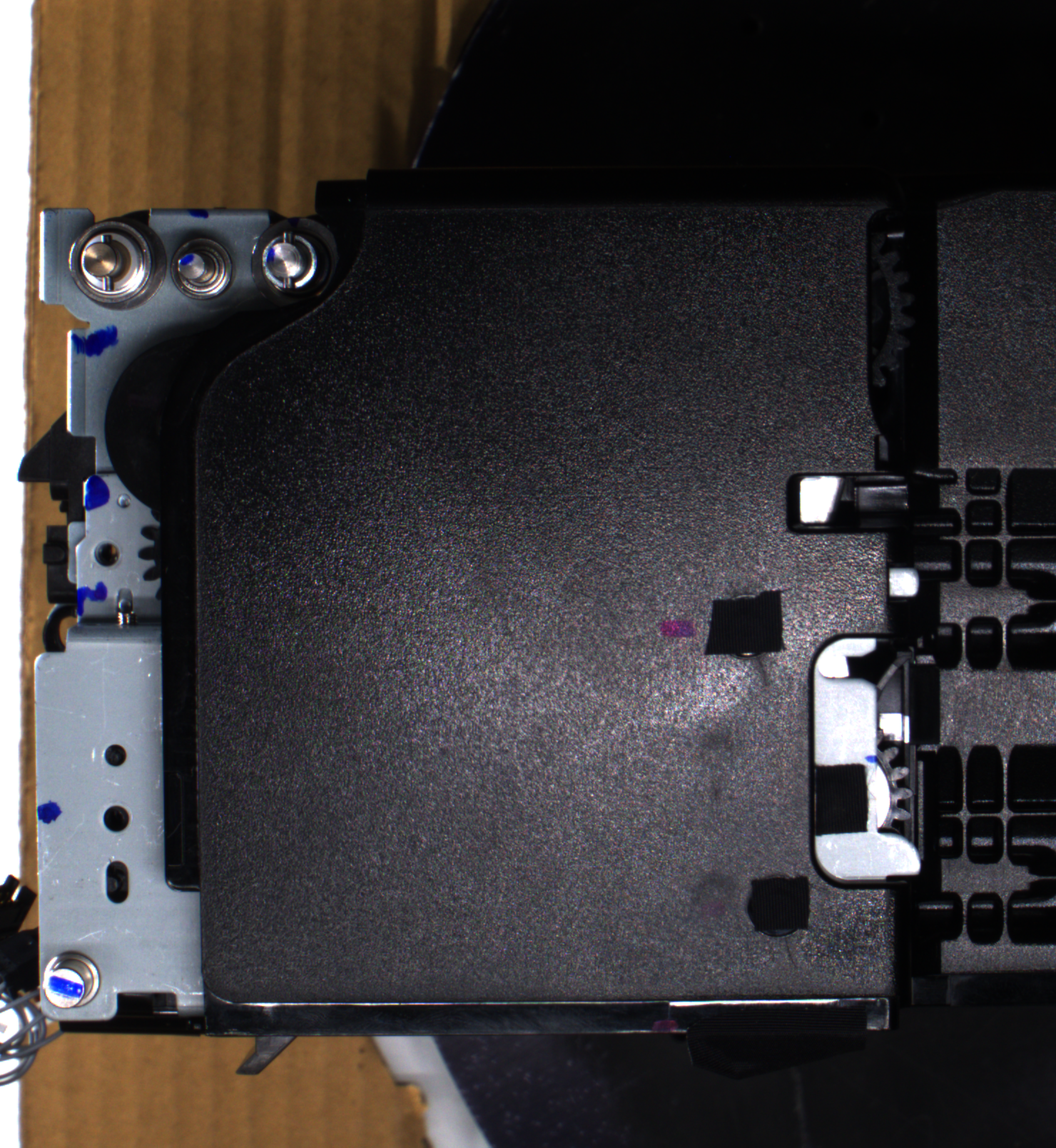centre_plate_presence: (802, 627, 930, 894)
gear1_absence: (65, 217, 168, 312)
gear2_absence: (164, 231, 237, 302)
gear3_absence: (246, 217, 338, 304)
side_screw_absence: (95, 798, 135, 840), (88, 536, 124, 573)
slanting_pin_presence: (37, 947, 108, 1016)
